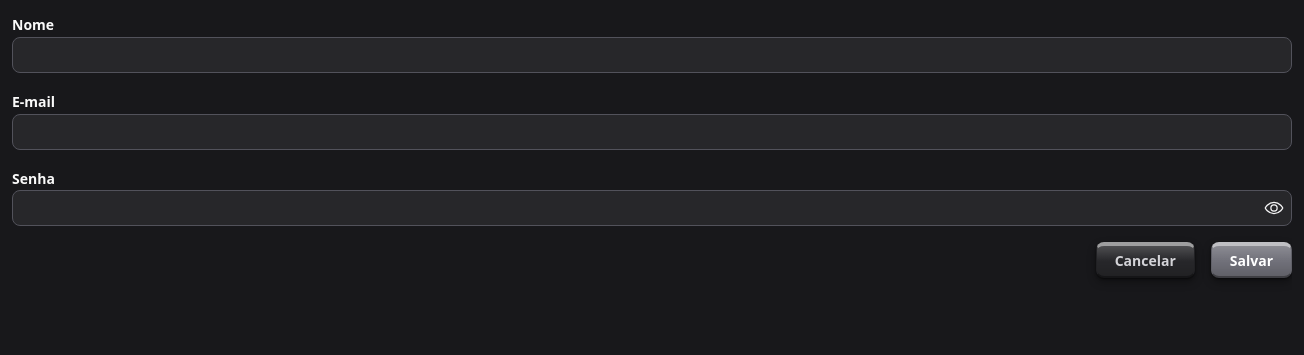
Scenario: UserForm › valida os campos obrigatórios no cadastro
Click the button "Salvar": click(1251, 260) [1211,242,1292,278]
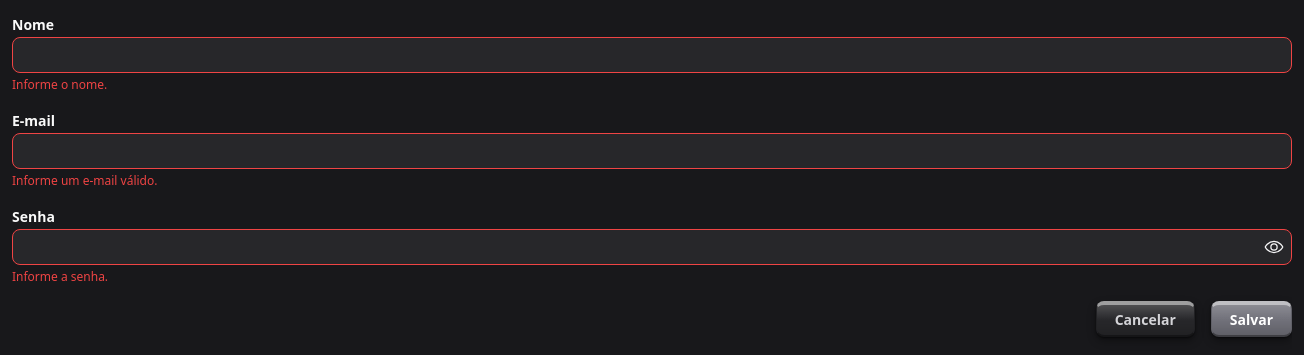
Check: the text "Informe o nome." is shown, box [12,76,107,93]
Check: the text "Informe um e-mail válido." is shown, box [12,172,158,189]
Check: the text "Informe a senha." is shown, box [12,268,108,285]
